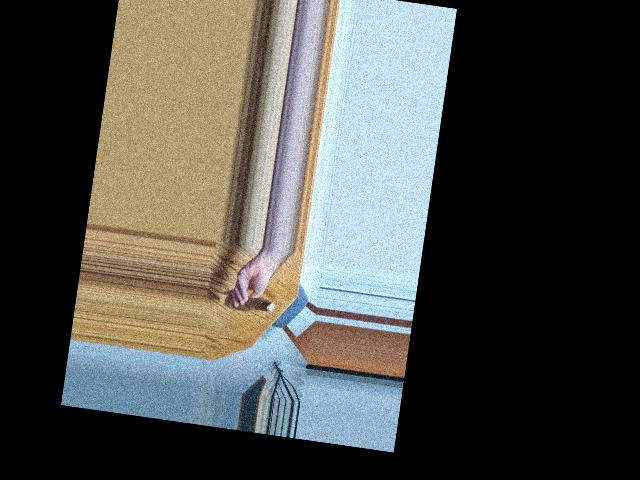sweet_potato: (227, 294, 270, 319)
